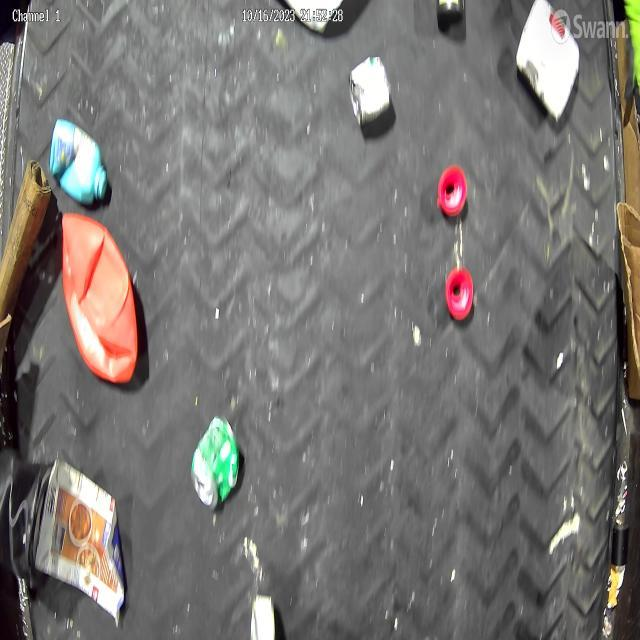can: (515, 0, 581, 121), (190, 412, 241, 514), (348, 52, 392, 130)
non_white_jug: (59, 208, 140, 387)
